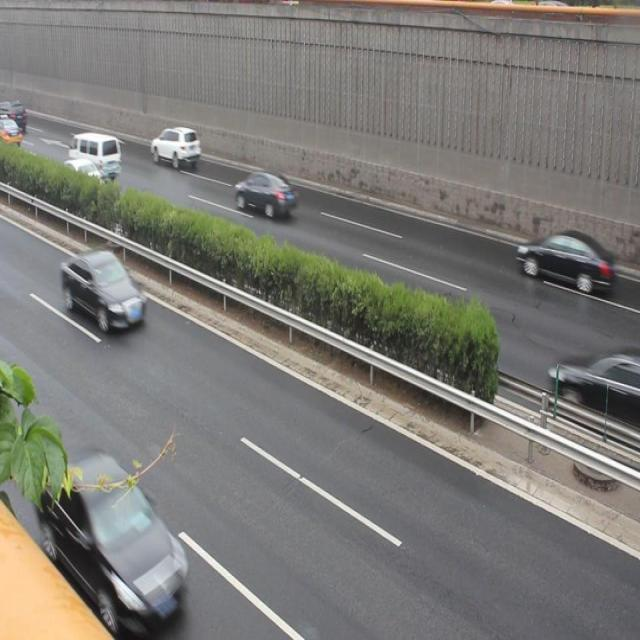car: (41, 454, 188, 617), (549, 348, 640, 428), (62, 251, 145, 331), (517, 230, 610, 297), (235, 170, 296, 220), (150, 124, 201, 172), (56, 160, 109, 203)
truck: (69, 134, 120, 180)
